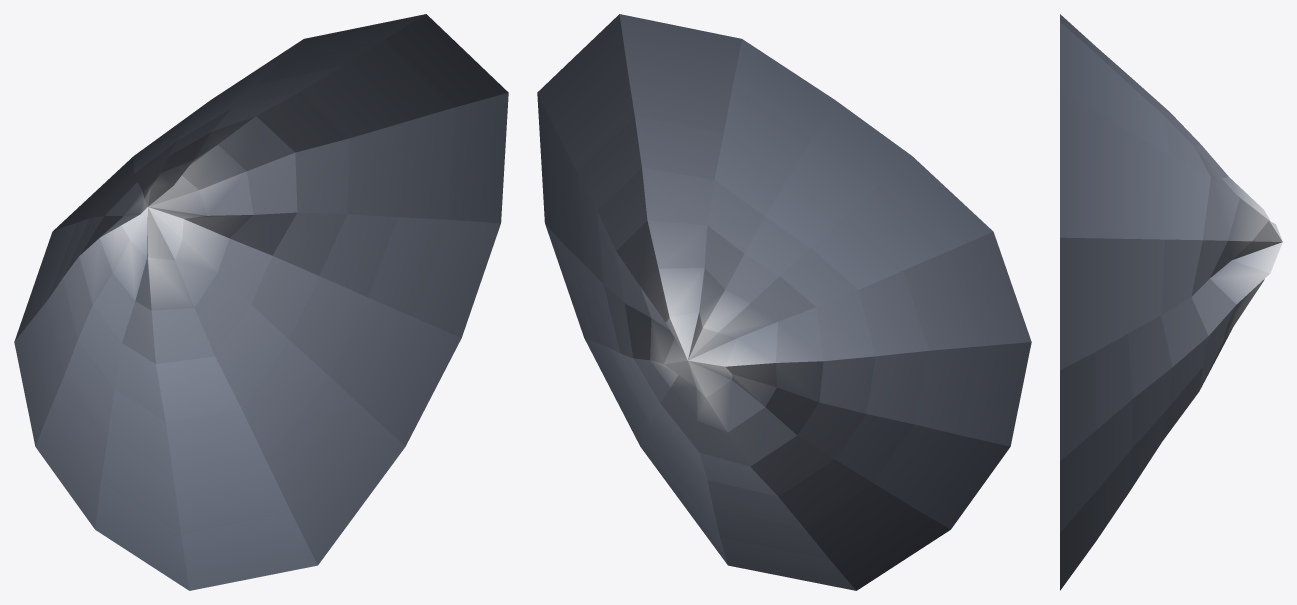
The model's file is mtn_peak_c.glb.
3 renders of one model, left to right at view 1: azimuth 30°, elevation 25°; view 2: azimuth 150°, elevation 25°; view 3: azimuth 270°, elevation 25°, orthographic. The views are drawn at different scales.
Visible parts, largest first — view 1: mtn_peak_c; view 2: mtn_peak_c; view 3: mtn_peak_c.
Boxes of the visible parts, box(x1,y1,x2,y2) form: mtn_peak_c: box(14, 14, 508, 590); mtn_peak_c: box(537, 14, 1031, 590); mtn_peak_c: box(1060, 14, 1282, 590).
Bounding box in the file's own units: 2.58 × 2.64 × 0.95.
